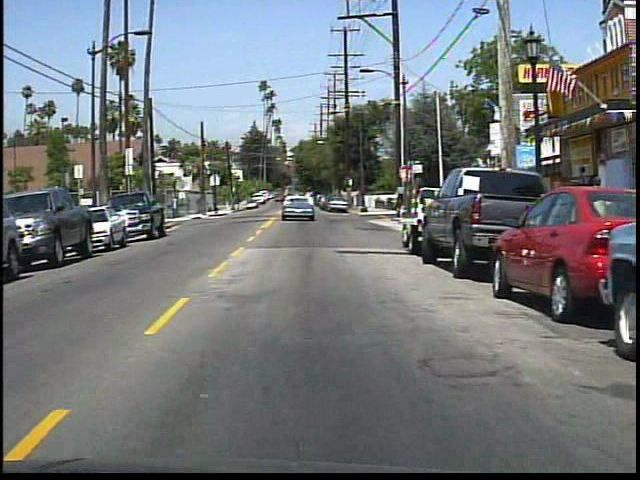person: (583, 172, 612, 243)
